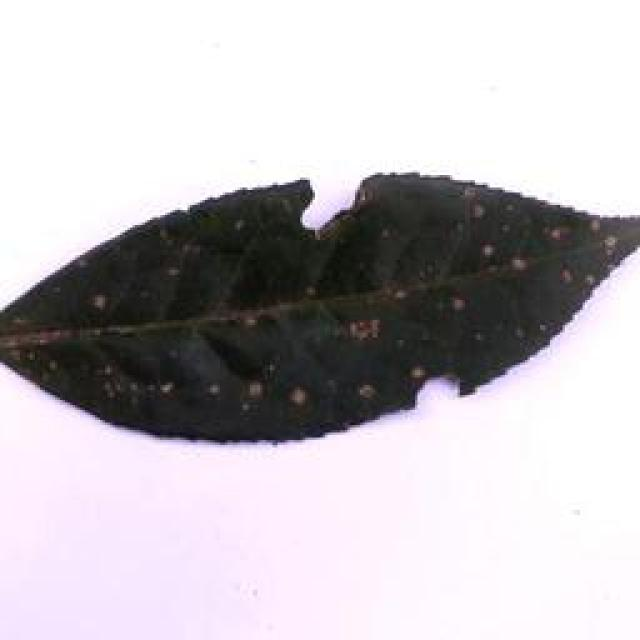Algal Leaf Spot: (6, 162, 634, 437)
